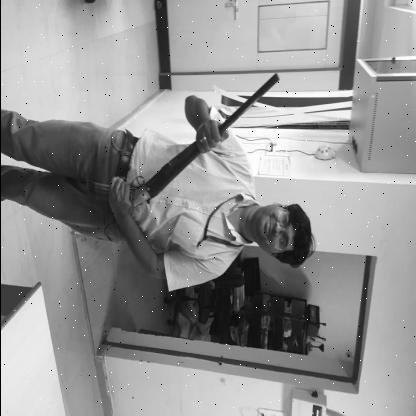rifle: (106, 70, 281, 218)
